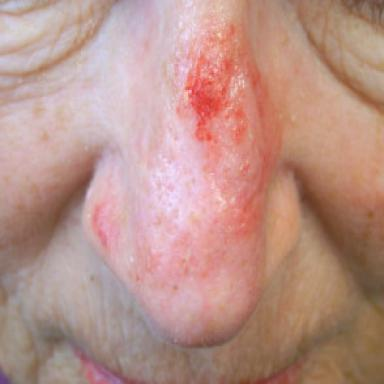eczema: (173, 23, 280, 239), (92, 205, 108, 247)
